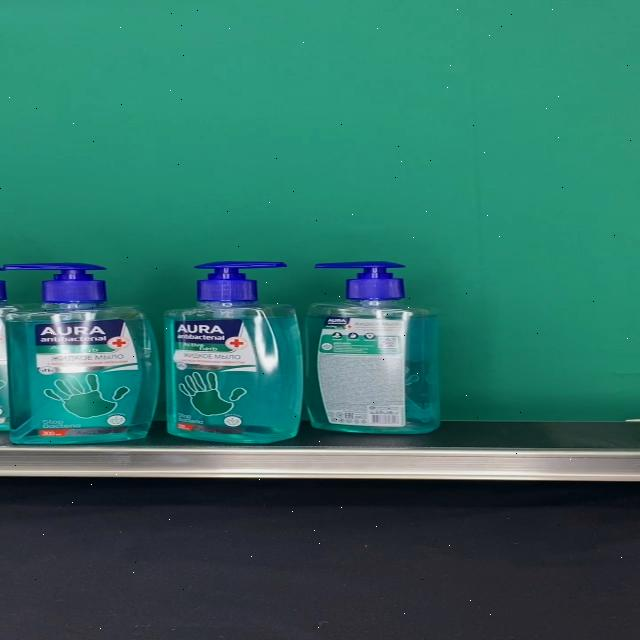Bottle: (4, 263, 159, 444), (164, 261, 304, 443), (302, 260, 440, 434)
Cap: (190, 261, 286, 302), (3, 262, 105, 300), (315, 260, 407, 300)
